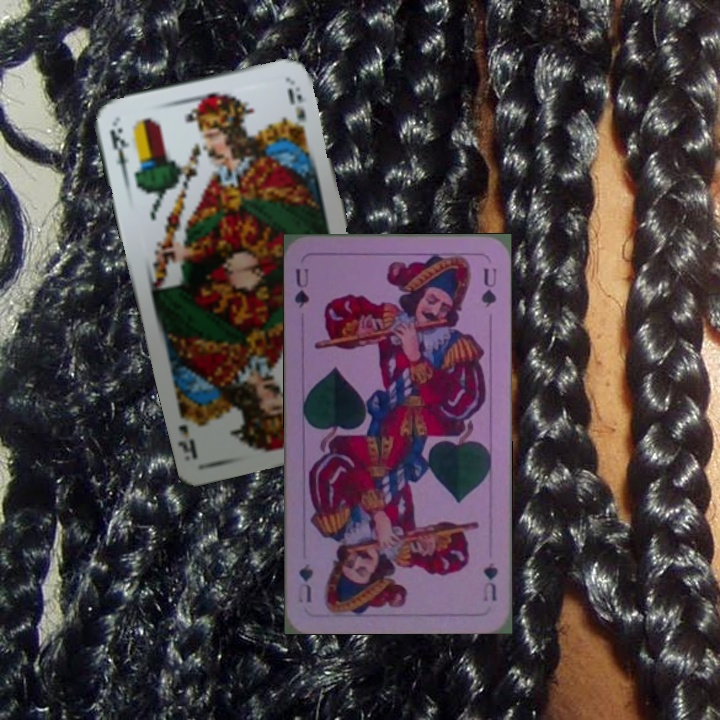EK: (105, 120, 132, 179)
GU: (478, 558, 501, 604), (290, 264, 312, 311)
